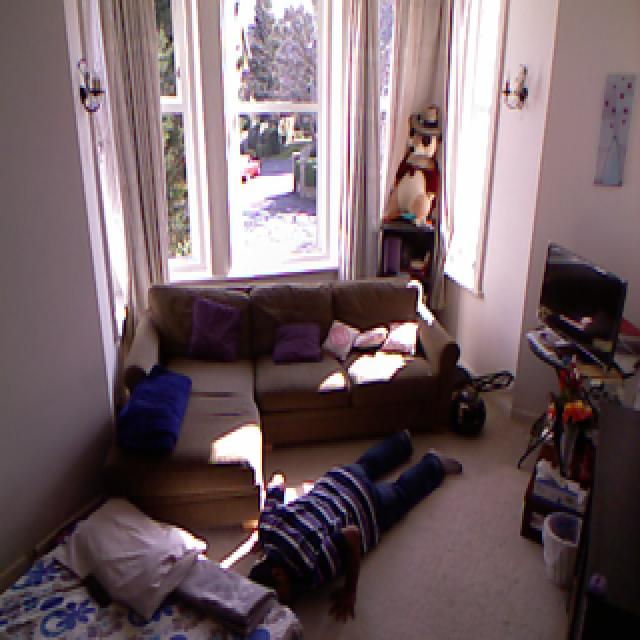lying: (251, 426, 465, 625)
